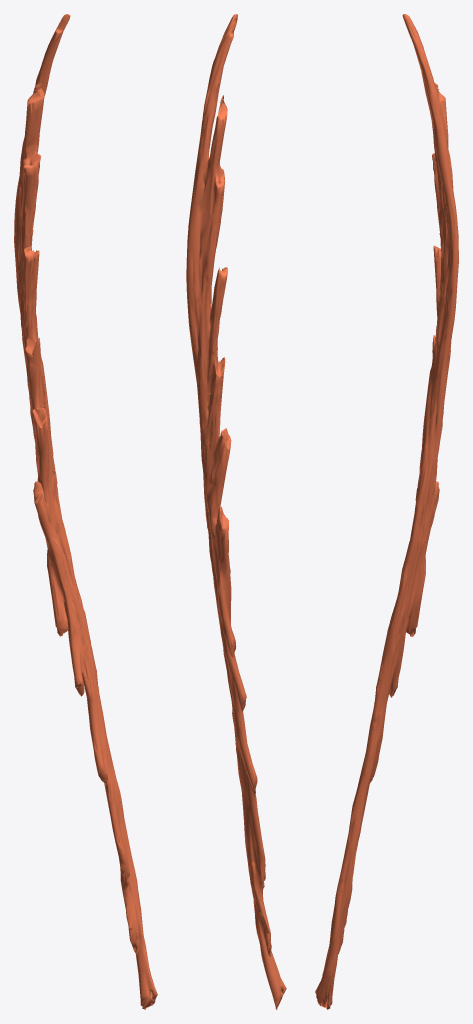
Rendered from Spinalis_thoracis_left.glb.
The picture shows the model from 3 angles, left to right: view 1: azimuth 90°, elevation 25°; view 2: azimuth 150°, elevation 25°; view 3: azimuth 270°, elevation 25°; orthographic projection. The views are drawn at different scales.
Parts seen in each view (by area): view 1: Spinalis_thoracis_muscle.l_Generated_Mesh_From_X3D.206; view 2: Spinalis_thoracis_muscle.l_Generated_Mesh_From_X3D.206; view 3: Spinalis_thoracis_muscle.l_Generated_Mesh_From_X3D.206.
Boxes of the visible parts, left/top/right/bottom form: Spinalis_thoracis_muscle.l_Generated_Mesh_From_X3D.206: left=14, top=14, right=157, bottom=1009; Spinalis_thoracis_muscle.l_Generated_Mesh_From_X3D.206: left=186, top=14, right=286, bottom=1009; Spinalis_thoracis_muscle.l_Generated_Mesh_From_X3D.206: left=315, top=14, right=458, bottom=1009.
Bounding box in the file's own units: 0.0126 × 0.3775 × 0.0494.
